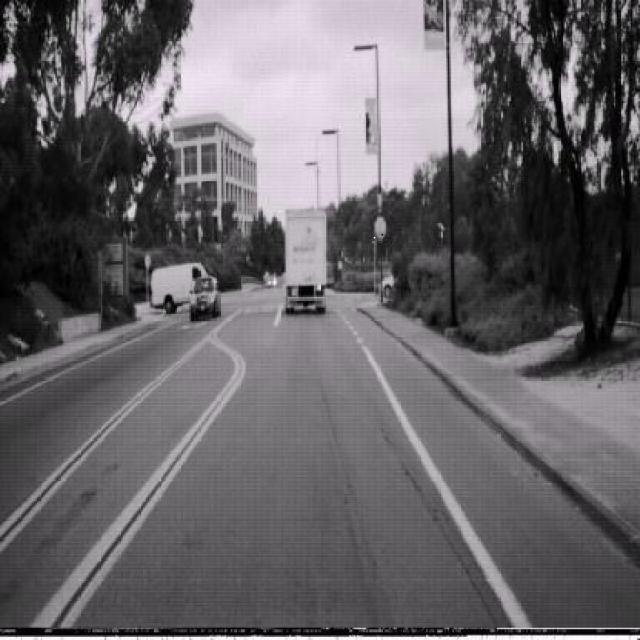stop: (374, 214, 386, 241)
